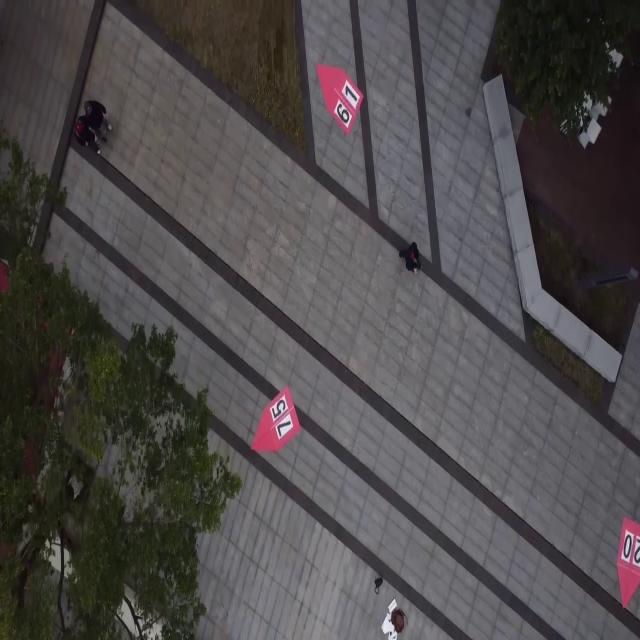-sign-: (317, 64, 365, 136), (250, 385, 300, 454), (616, 518, 640, 608)
